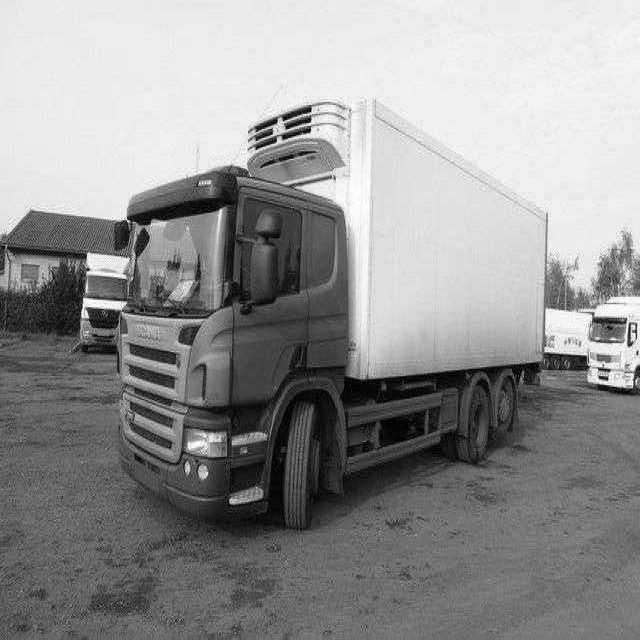Truck: (116, 100, 545, 526), (587, 296, 640, 392), (80, 254, 128, 350)
